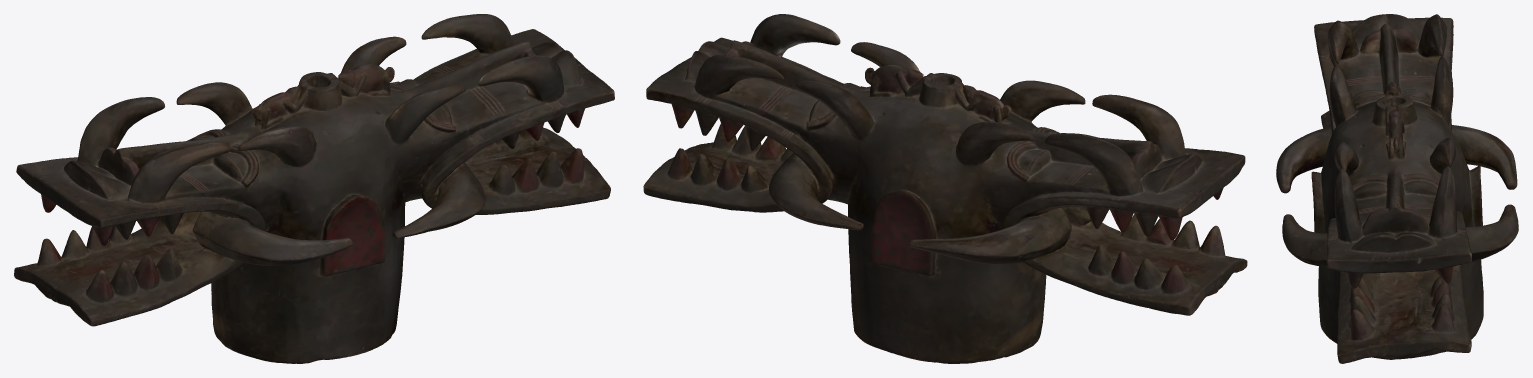
File: preview.glb
3 views of the same model, side by side, from view 1: azimuth 30°, elevation 25°; view 2: azimuth 150°, elevation 25°; view 3: azimuth 270°, elevation 25° (orthographic). The views are drawn at different scales.
Visible parts, largest first — view 1: Object_2; view 2: Object_2; view 3: Object_2.
Boxes of the visible parts, box(x1,y1,x2,y2) form: Object_2: box(14, 14, 614, 363); Object_2: box(643, 14, 1247, 363); Object_2: box(1276, 14, 1518, 363).
Bounding box in the file's own units: 766 × 341 × 324.
1 material, 1 textured.
